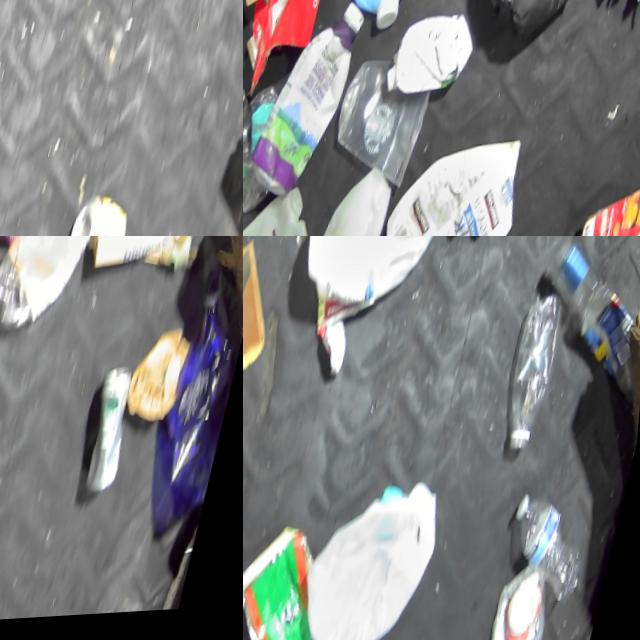can: (86, 367, 149, 502), (63, 196, 142, 236), (243, 54, 263, 149)
milk_jug: (295, 467, 457, 640), (372, 123, 540, 236), (293, 236, 449, 322), (313, 165, 403, 236), (243, 176, 342, 236)
non_white_jug: (249, 0, 371, 203), (309, 0, 445, 37)
plastic_bottle: (524, 236, 640, 412), (502, 489, 606, 617), (496, 294, 573, 465)
